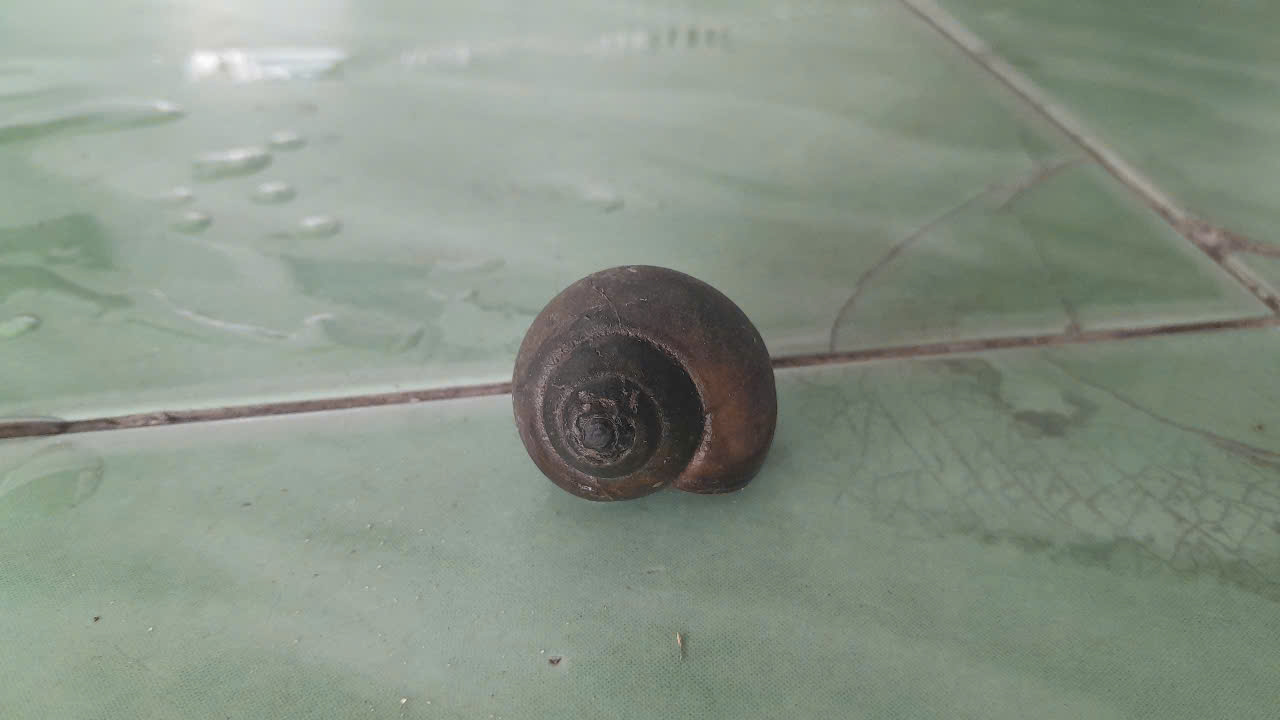oc_buou_den: (496, 238, 782, 526)
